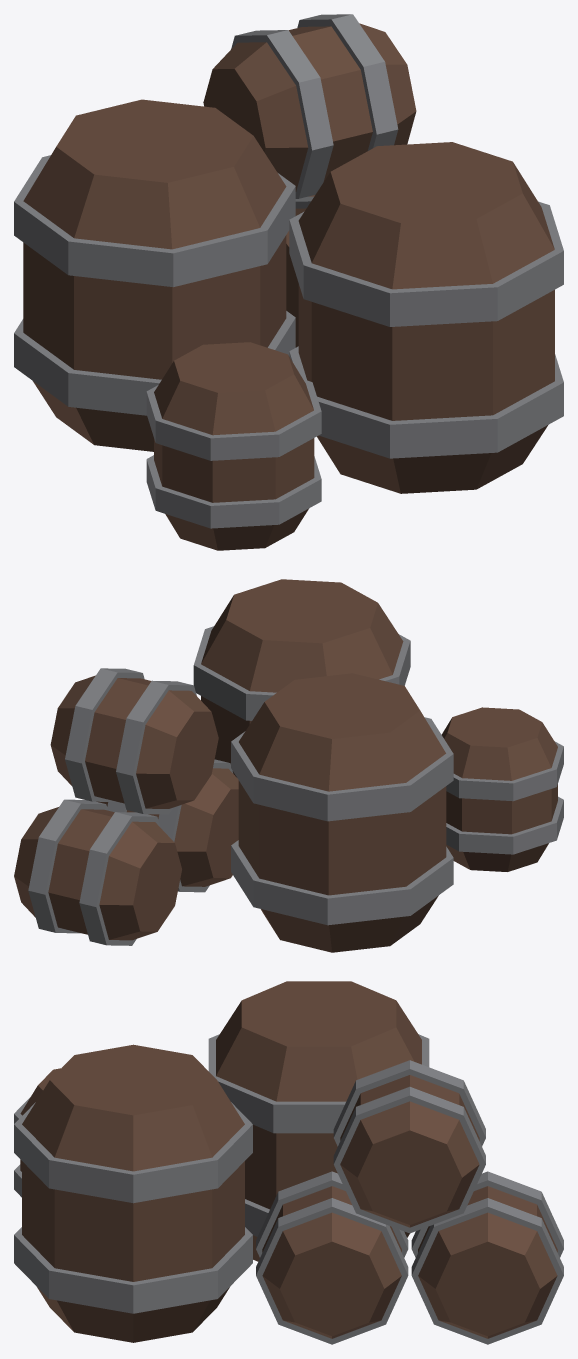
3 renders of one model, top to bottom at view 1: azimuth 30°, elevation 25°; view 2: azimuth 150°, elevation 25°; view 3: azimuth 270°, elevation 25°, orthographic. The views are drawn at different scales.
Visible parts, largest first — view 1: Barrel_1x1x1_proxy.002_0, Barrel_1x1x1_proxy.002_1; view 2: Barrel_1x1x1_proxy.002_0, Barrel_1x1x1_proxy.002_1; view 3: Barrel_1x1x1_proxy.002_0, Barrel_1x1x1_proxy.002_1.
Part boxes in pixels (x1,y1,x2,y2): Barrel_1x1x1_proxy.002_0: [23, 23, 554, 550]; Barrel_1x1x1_proxy.002_1: [14, 14, 563, 528]; Barrel_1x1x1_proxy.002_0: [14, 579, 557, 952]; Barrel_1x1x1_proxy.002_1: [28, 626, 563, 945]; Barrel_1x1x1_proxy.002_0: [20, 981, 557, 1342]; Barrel_1x1x1_proxy.002_1: [14, 1034, 563, 1344].
Size of the model in its own units: 1.46 by 0.9863 by 1.97.
